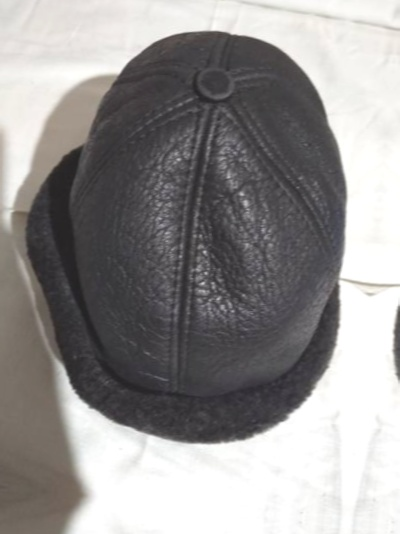Hat: (0, 0, 399, 442), (355, 21, 400, 479)
